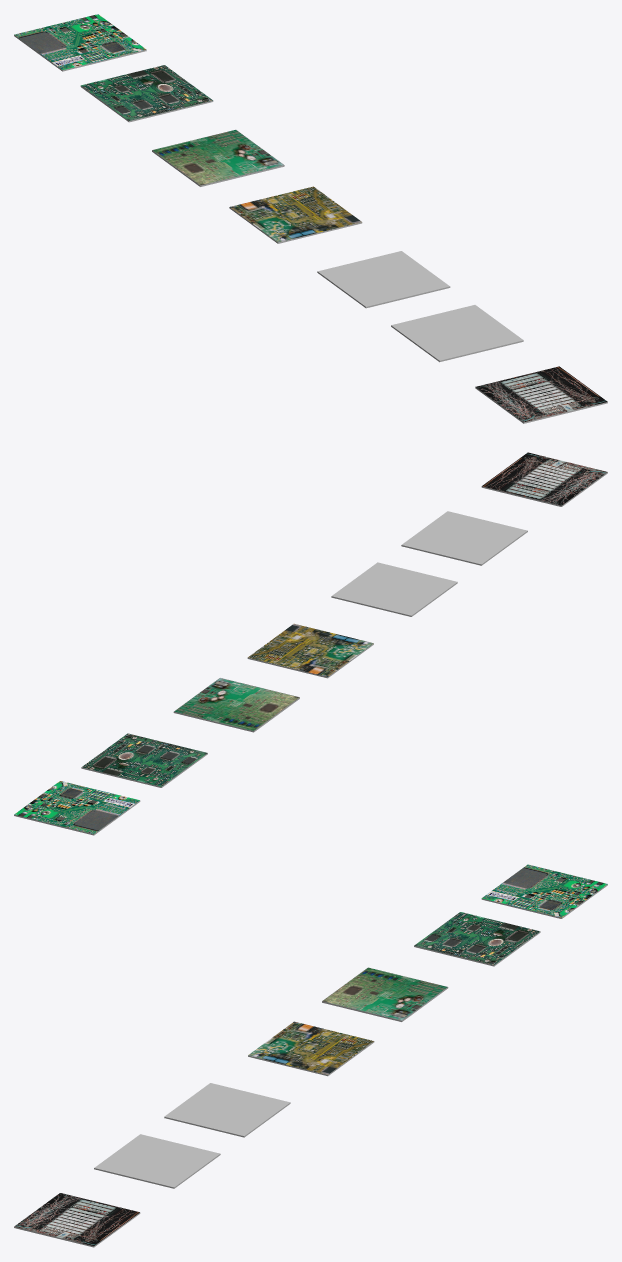
The model's file is CircuitBoards.fbx.
3 renders of one model, top to bottom at view 1: azimuth 30°, elevation 25°; view 2: azimuth 150°, elevation 25°; view 3: azimuth 330°, elevation 25°, orthographic. The views are drawn at different scales.
Parts seen in each view (by area): view 1: CB1, CB2, CB4, CB5, CB7, CB3, CB6; view 2: CB1, CB2, CB5, CB7, CB6, CB3, CB4; view 3: CB1, CB2, CB5, CB7, CB6, CB3, CB4.
Part boxes in pixels (left/top/right/bottom): CB1: left=14, top=14, right=146, bottom=71; CB2: left=80, top=65, right=213, bottom=122; CB4: left=229, top=186, right=362, bottom=243; CB5: left=317, top=251, right=450, bottom=308; CB7: left=475, top=366, right=607, bottom=423; CB3: left=152, top=129, right=284, bottom=186; CB6: left=391, top=305, right=523, bottom=362; CB1: left=14, top=781, right=140, bottom=835; CB2: left=81, top=733, right=207, bottom=787; CB5: left=331, top=562, right=457, bottom=616; CB7: left=481, top=452, right=607, bottom=506; CB6: left=401, top=511, right=527, bottom=565; CB3: left=173, top=678, right=299, bottom=732; CB4: left=247, top=623, right=373, bottom=678; CB1: left=481, top=864, right=607, bottom=918; CB2: left=414, top=912, right=540, bottom=966; CB5: left=164, top=1083, right=290, bottom=1137; CB7: left=14, top=1193, right=140, bottom=1247; CB6: left=94, top=1134, right=220, bottom=1188; CB3: left=322, top=967, right=448, bottom=1021; CB4: left=248, top=1021, right=374, bottom=1076.
Size of the model in its own units: 35.91 by 0.5 by 329.
